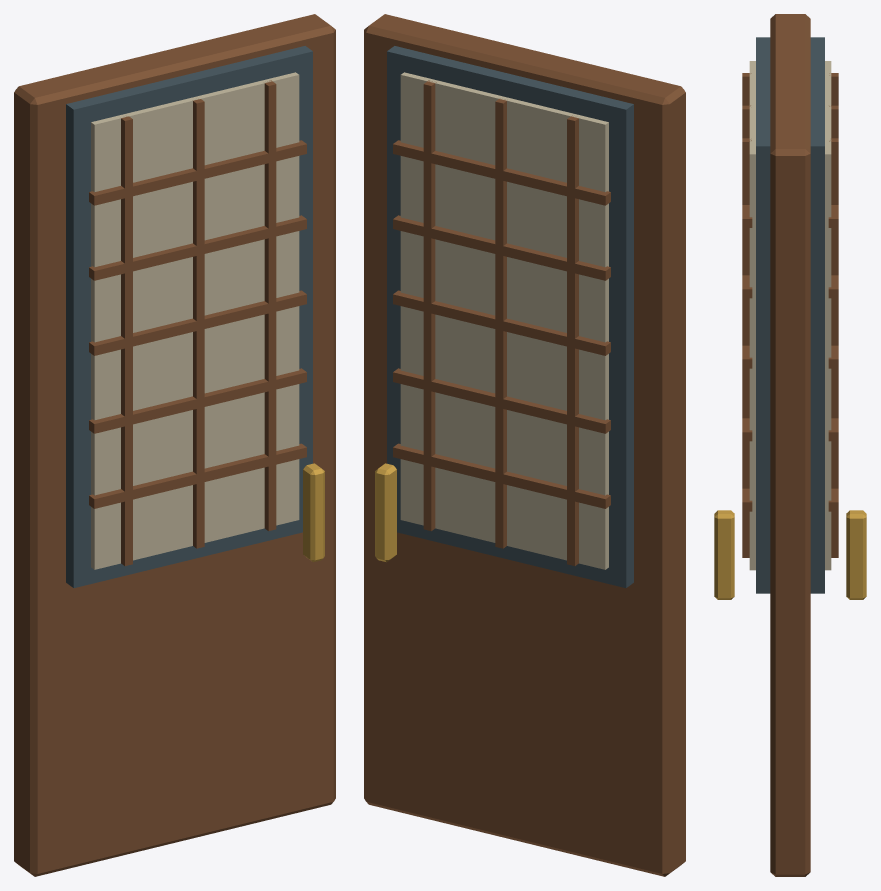
File: door_sliding_shoji.glb
3 renders of one model, left to right at view 1: azimuth 30°, elevation 25°; view 2: azimuth 150°, elevation 25°; view 3: azimuth 270°, elevation 25°, orthographic. The views are drawn at different scales.
Parts seen in each view (by area): view 1: door_sliding_shoji; view 2: door_sliding_shoji; view 3: door_sliding_shoji.
Part boxes in pixels (x1=…): door_sliding_shoji: x1=14, y1=14, x2=335, y2=876; door_sliding_shoji: x1=364, y1=14, x2=685, y2=876; door_sliding_shoji: x1=714, y1=14, x2=866, y2=876.
Bounding box in the file's own units: 1.15 × 2.8 × 0.53.
